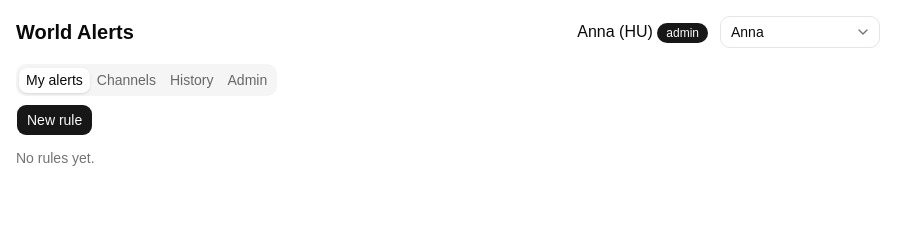
it: AppShell › keeps the Admin tab when switching from one admin to another while /me reloads
Press the mouse on the tab "Admin" at [247, 80], box [220,68,274,92]
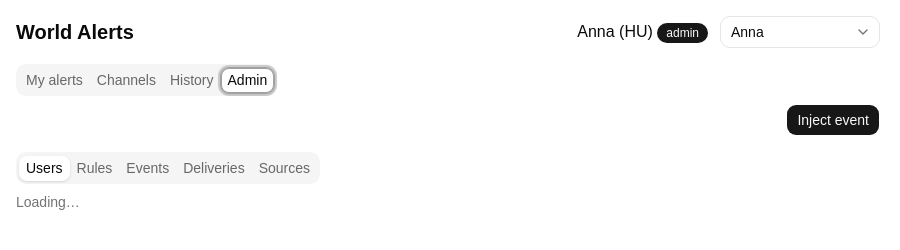
Click the tab "Admin" at [247, 80], box [220,68,274,92]
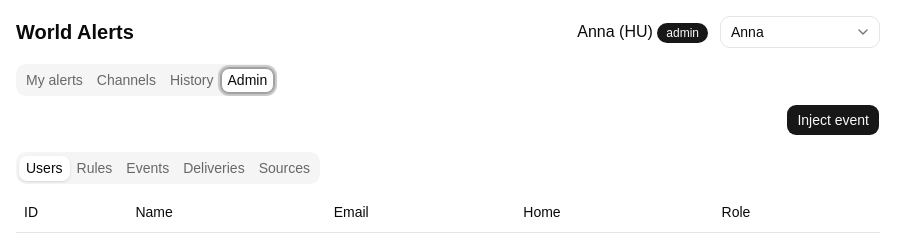
Result: the button "Inject event" is shown at [786,104,880,136]
Press the mouse on the dropdown at [800, 32], box [720,16,880,48]
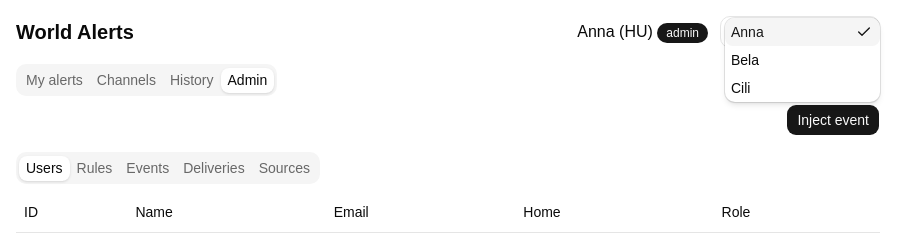
Click the option "Cili" at [741, 88], box [731,80,750,96]
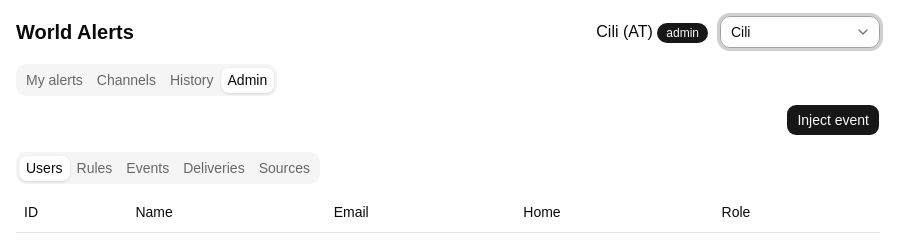
Result: the text "Cili (AT) admin" is shown at [596,20,708,44]
